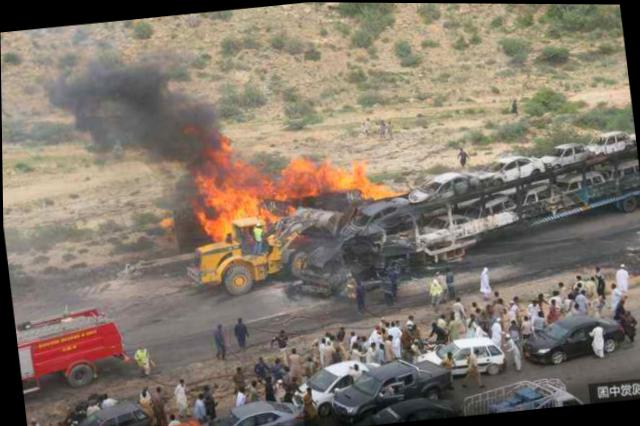fire: (172, 122, 411, 291)
